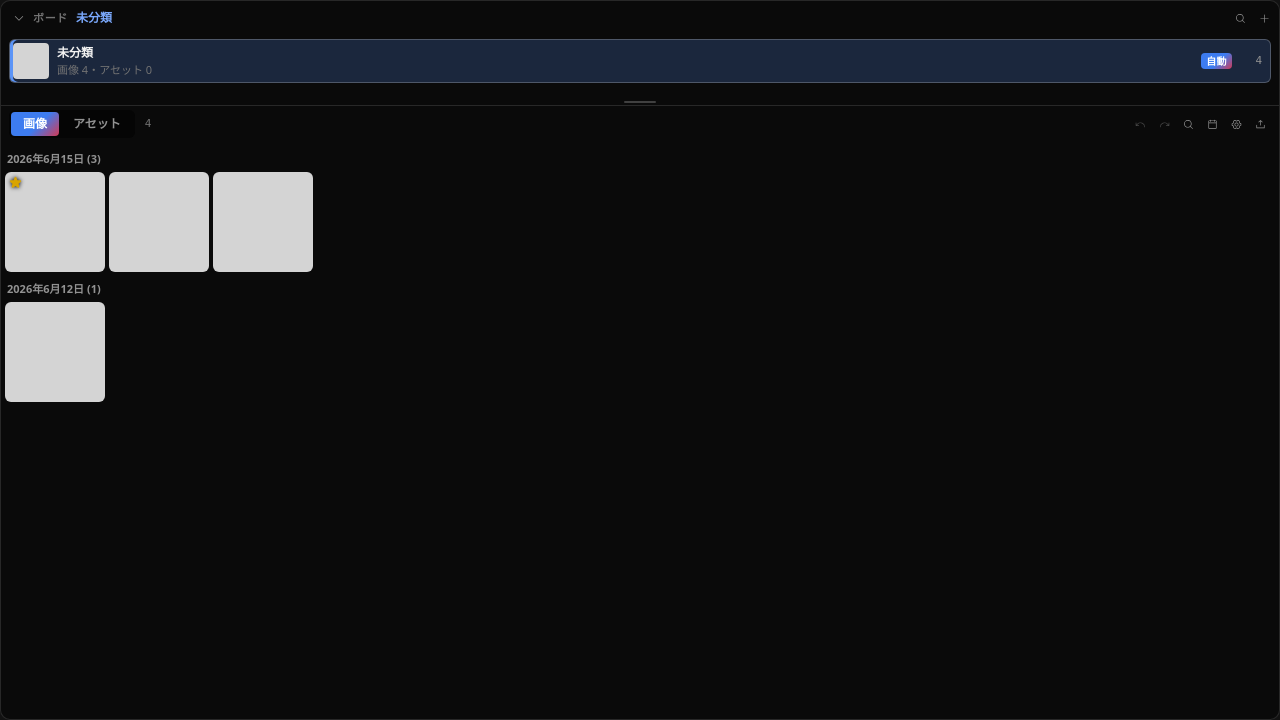
GalleryPanel grid › groups by day with a header per day and filters by search with an empty state
Expected: the number of elements with test id "gallery-day-header" is 2, left=7, top=151, right=101, bottom=166; left=7, top=281, right=101, bottom=296
Click the button named "画像を検索" at (1188, 124), box left=1177, top=113, right=1199, bottom=135
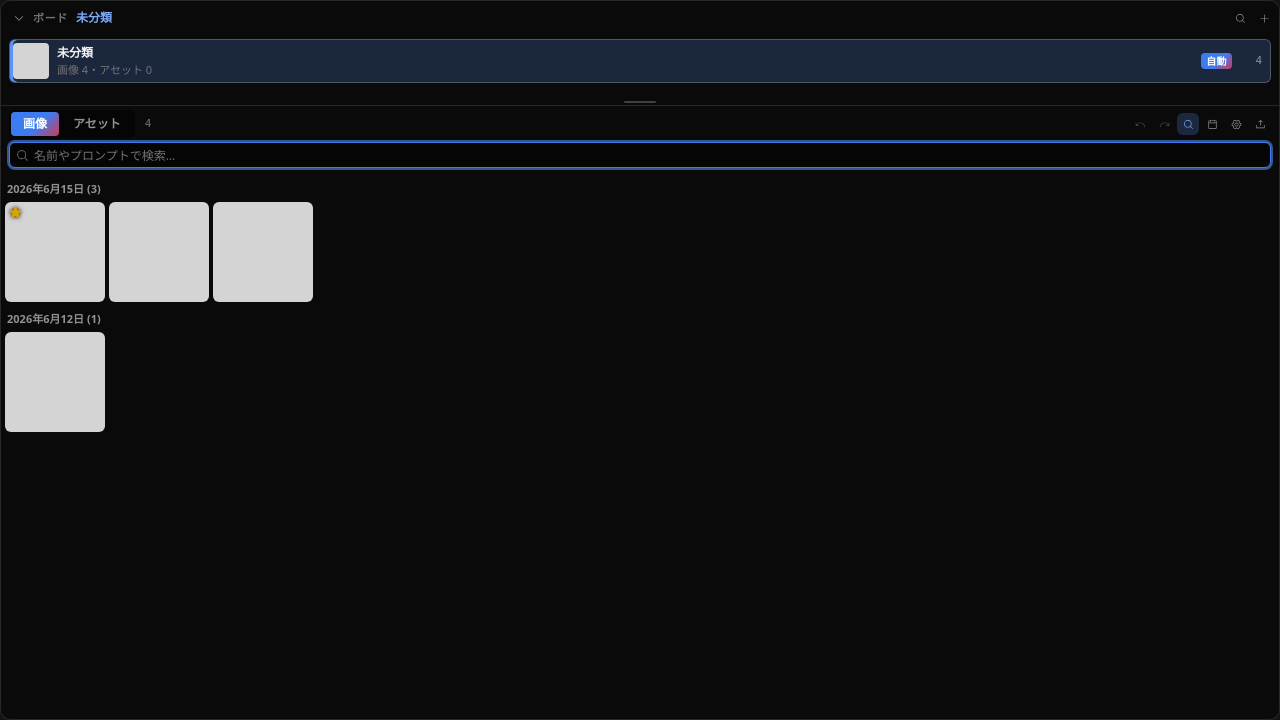
Type "zzz-nothing" into the field with placeholder "名前やプロンプトで検索…" at (640, 155), box left=9, top=142, right=1271, bottom=168
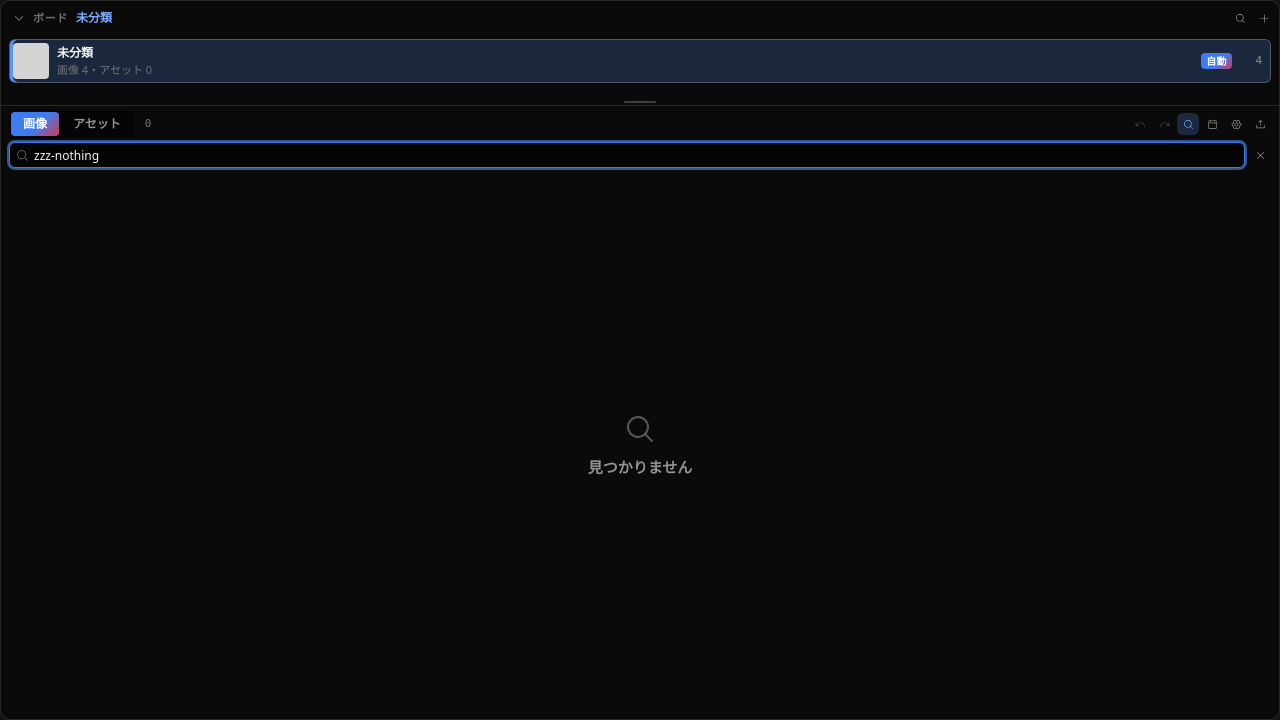
Expected: the text "見つかりません" is shown, left=588, top=457, right=692, bottom=478
Press Escape in the field with placeholder "名前やプロンプトで検索…", box left=9, top=142, right=1245, bottom=168
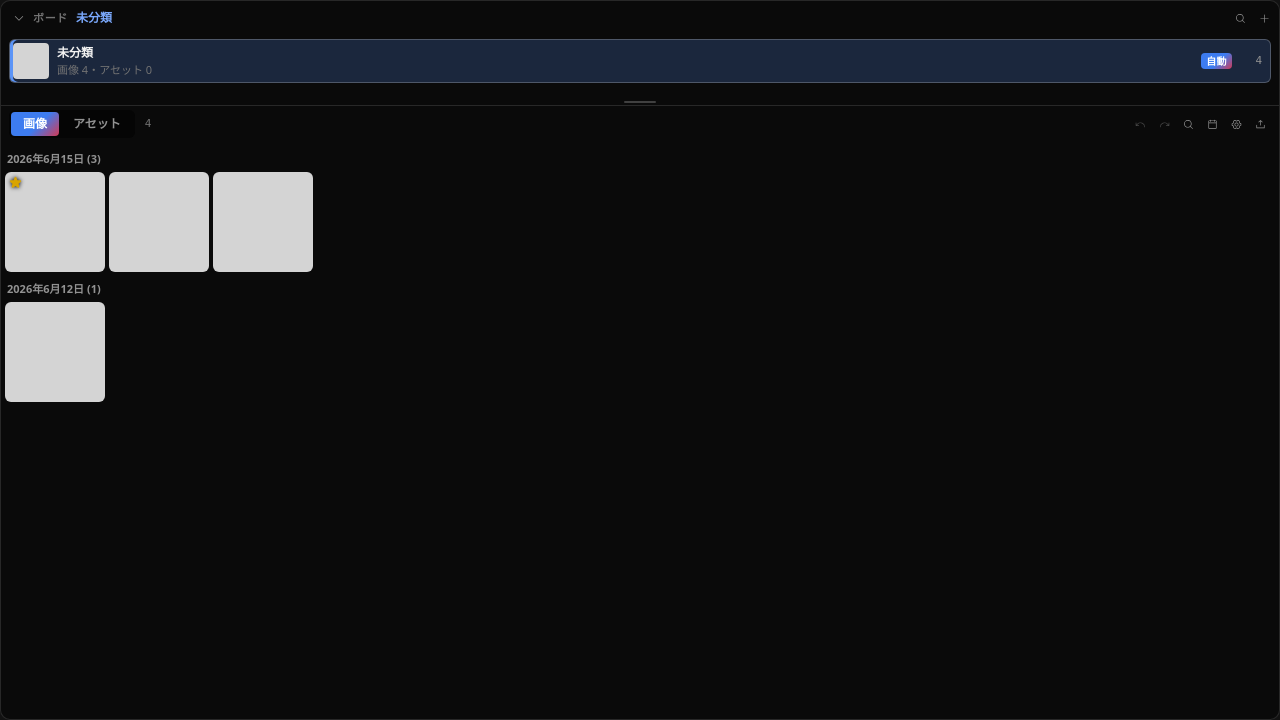
Expected: the field with placeholder "名前やプロンプトで検索…" is gone
